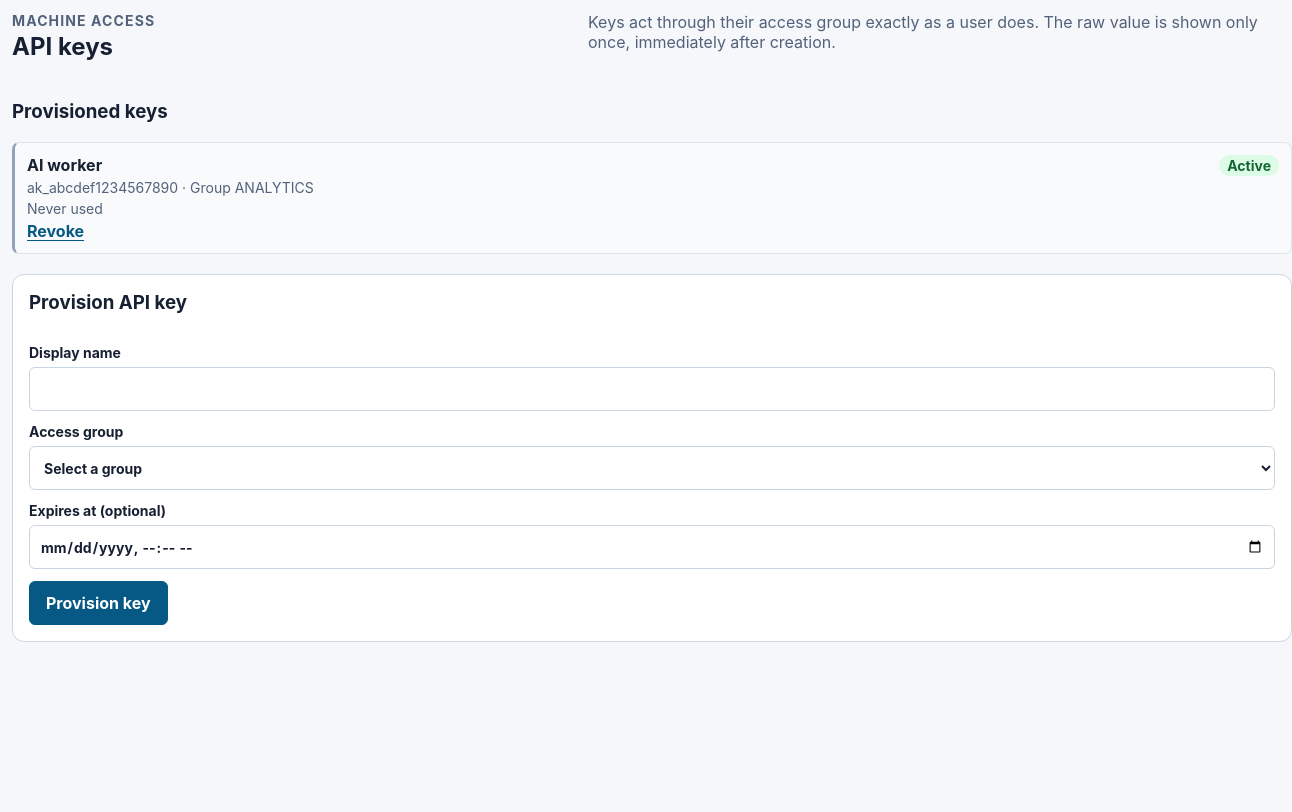
Test case: shows an error when revoking a key fails
Click the button "Revoke": click(56, 231) [27,221,84,241]
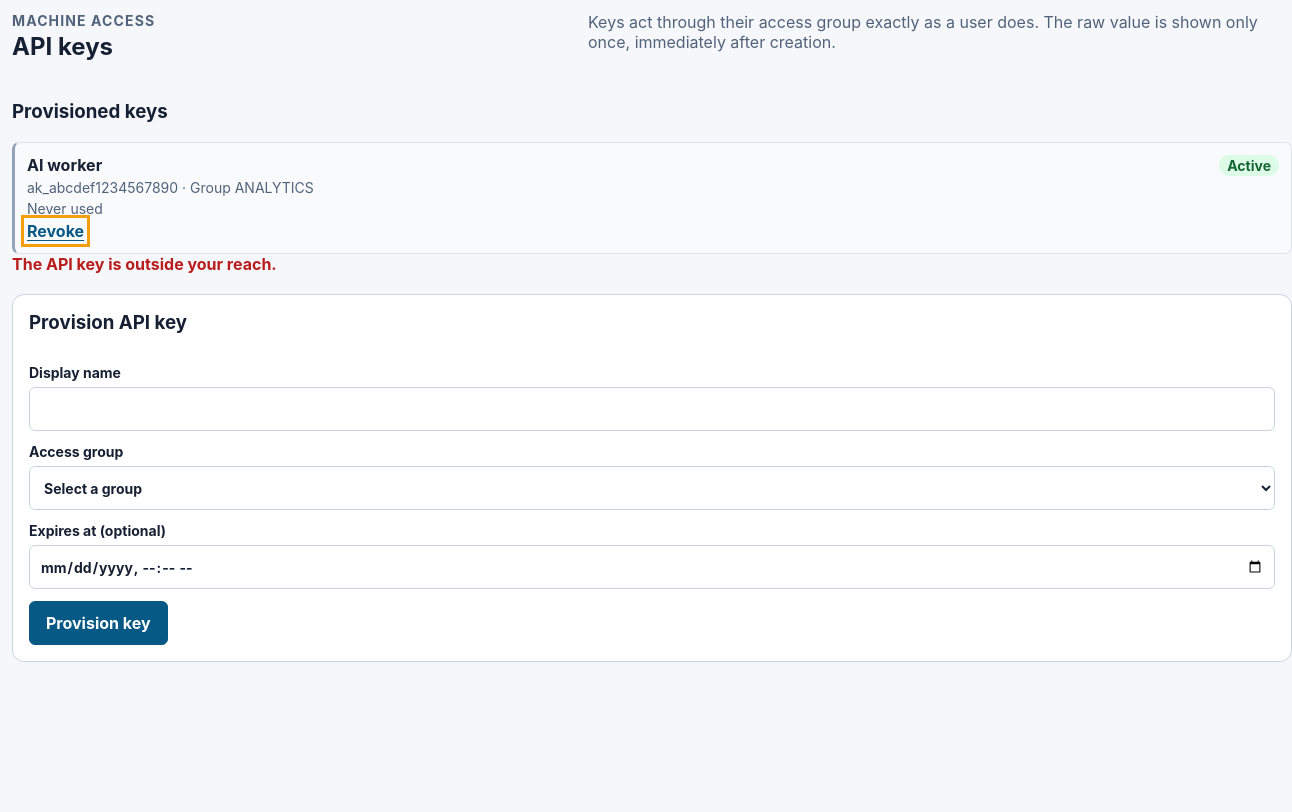
Check: the text "The API key is outside your reach." is shown, box [12,254,277,274]
